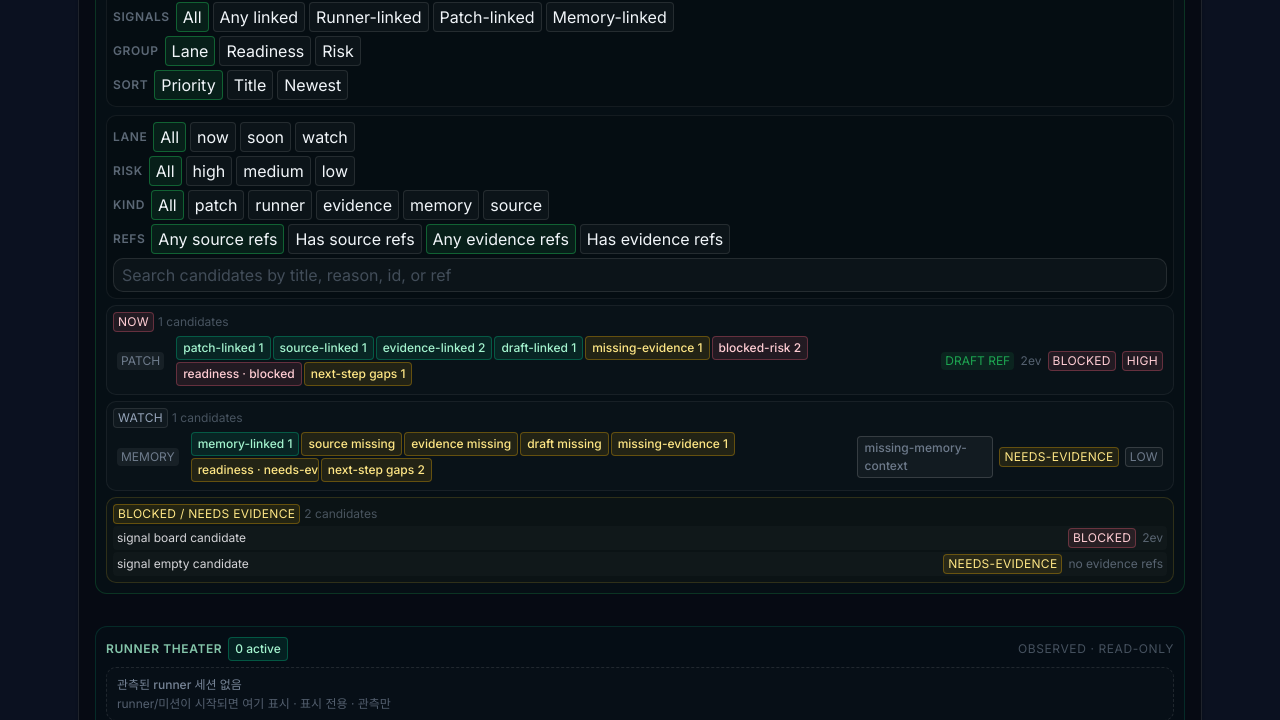
Scenario: E14 — WorkItem Candidate signal chips and origin summary › renders a read-only origin summary in candidate detail
The image size is (1280, 720).
(page scrolled)
Click the button with test id "wic-row-wic-signal-board" at (640, 360), box [113,334,1167,388]
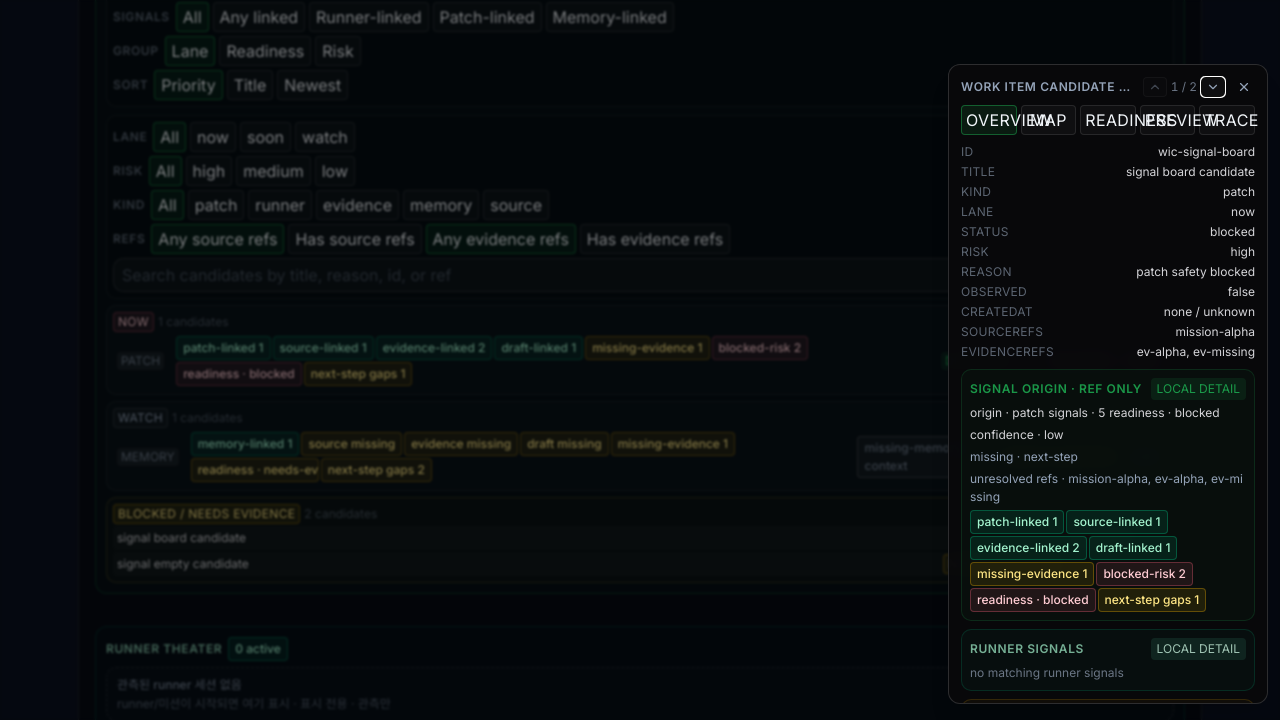
Now the element with test id "wic-signal-summary" shows "origin · patch", box [961,369,1255,621]
Now the element with test id "wic-signal-summary" shows "signals · 5", box [961,369,1255,621]
Now the element with test id "wic-signal-summary" shows "missing · next-step", box [961,369,1255,621]
